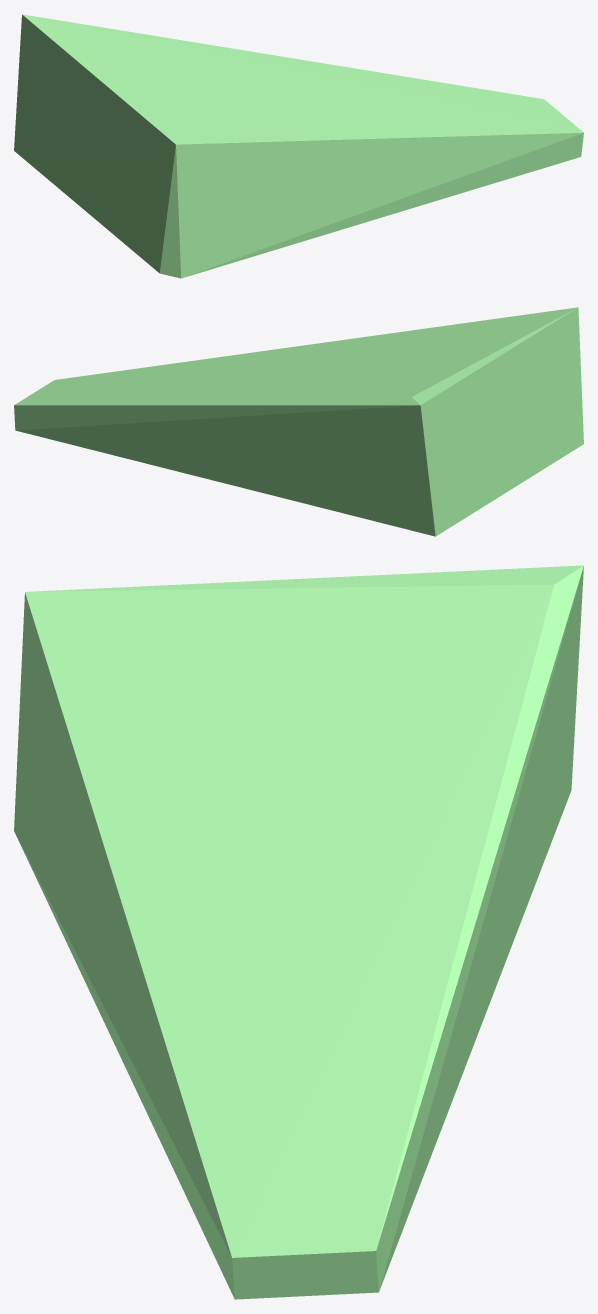
Rendered from UMIRobot_UMIRobot_link_5_convex_coll_67.dae.
The picture shows the model from 3 angles, top to bottom: view 1: azimuth 30°, elevation 25°; view 2: azimuth 150°, elevation 25°; view 3: azimuth 270°, elevation 25°; orthographic projection. The views are drawn at different scales.
Parts seen in each view (by area): view 1: node; view 2: node; view 3: node.
Boxes of the visible parts, x1,y1,x2,y2 form: node: (14, 14, 583, 278); node: (14, 307, 583, 536); node: (14, 565, 583, 1299).
Size of the model in its own units: 0.0205 by 0.00757 by 0.0119.
